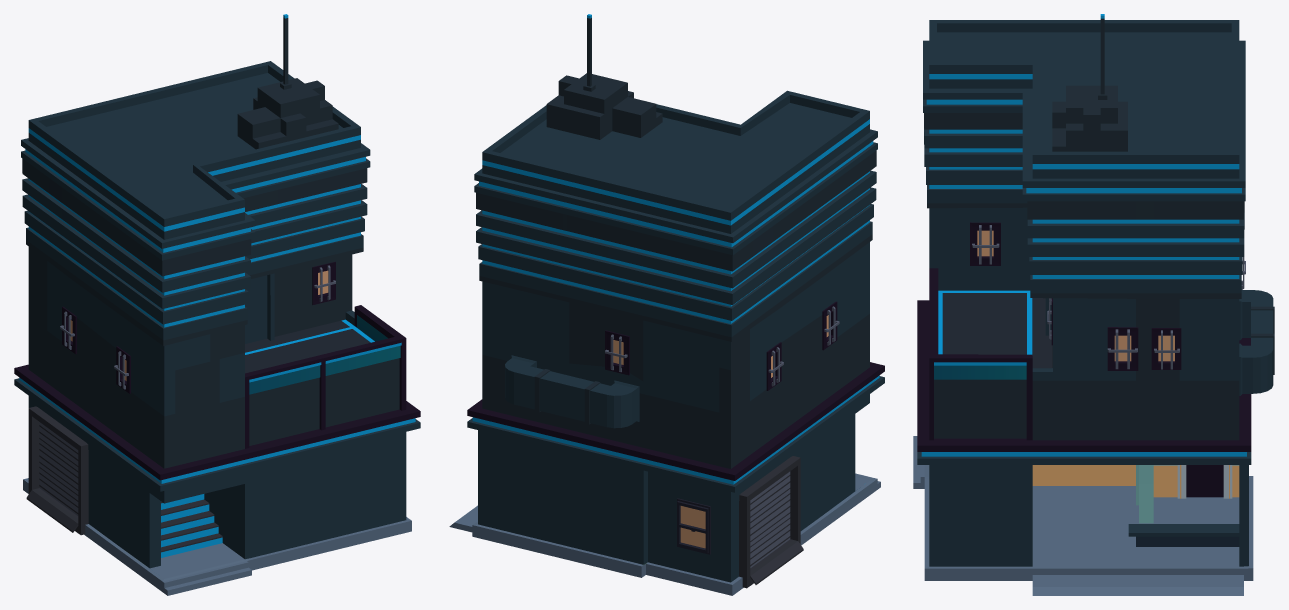
Rendered from Building_Small06.fbx.
3 renders of one model, left to right at view 1: azimuth 30°, elevation 25°; view 2: azimuth 150°, elevation 25°; view 3: azimuth 270°, elevation 25°, orthographic. The views are drawn at different scales.
Parts seen in each view (by area): view 1: CubeHome.005; view 2: CubeHome.005; view 3: CubeHome.005.
Part boxes in pixels (x1,y1,x2,y2): CubeHome.005: (14,14,420,595); CubeHome.005: (449,14,884,595); CubeHome.005: (913,14,1274,595).
Bounding box in the file's own units: 875 × 1380 × 838.
